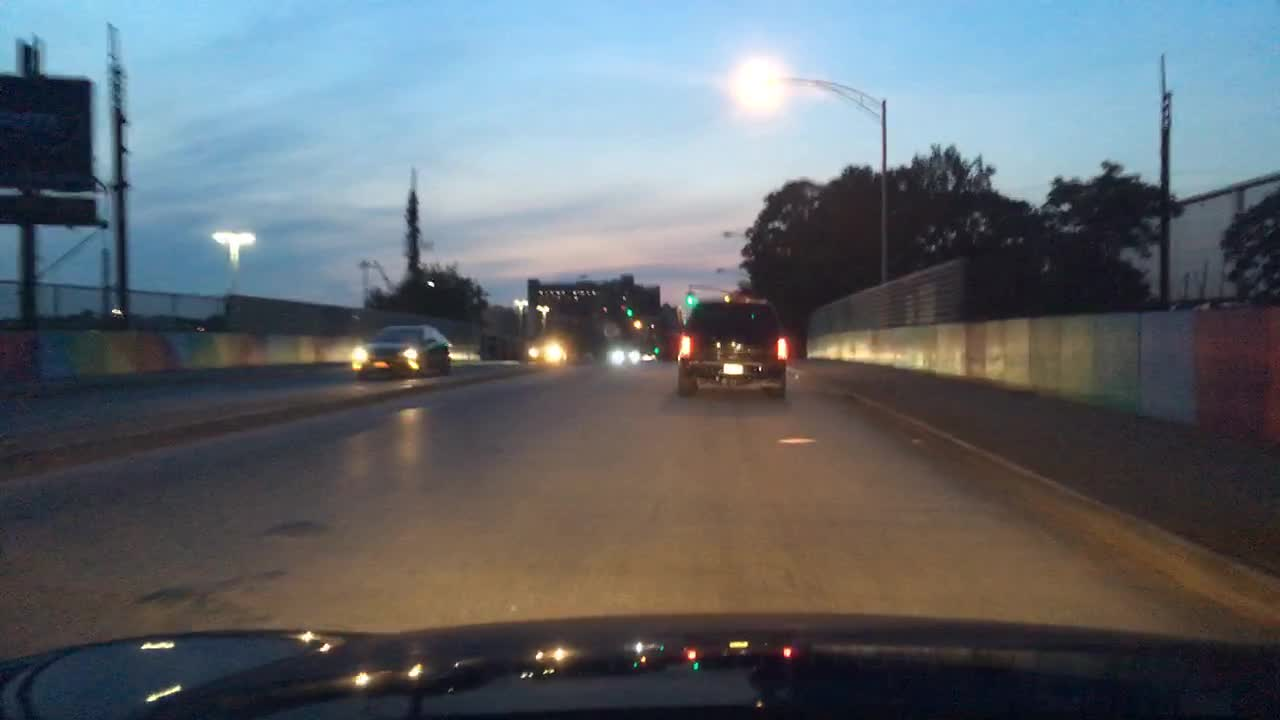car: (676, 298, 788, 402), (349, 319, 454, 381), (524, 332, 576, 367), (606, 336, 644, 365)
traffic light: (685, 286, 693, 309), (624, 301, 635, 316)
